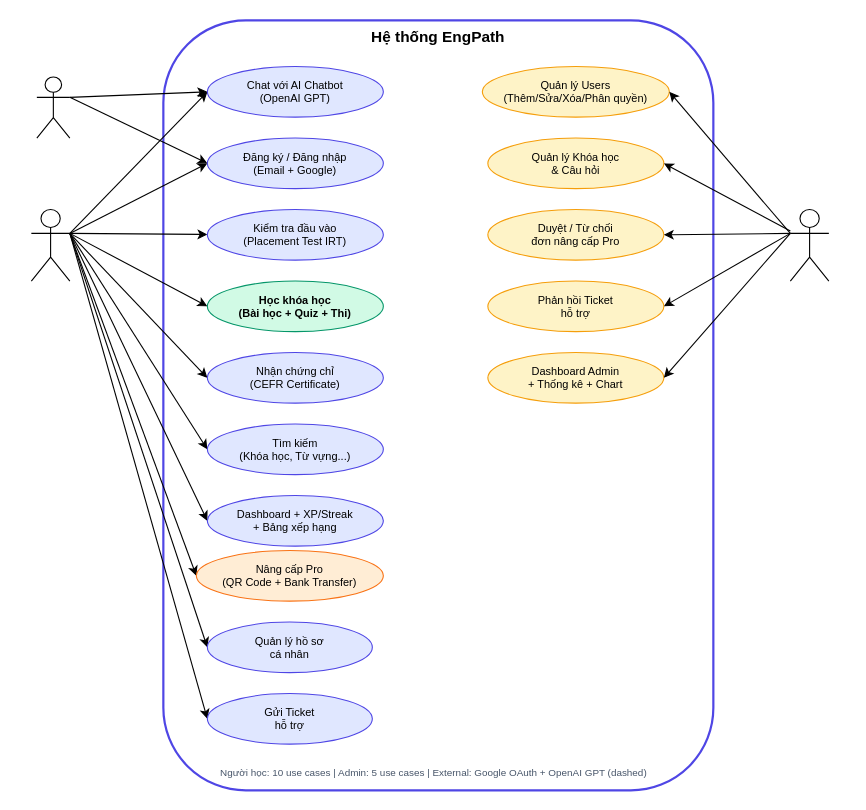
This 866x810 diagram has some shape labels left out. Each missing label, with the box of its shape:
Google OAuth OpenAI API: (36, 76, 70, 138)
Người học: (30, 208, 70, 281)
Quản trị viên: (789, 208, 829, 281)
